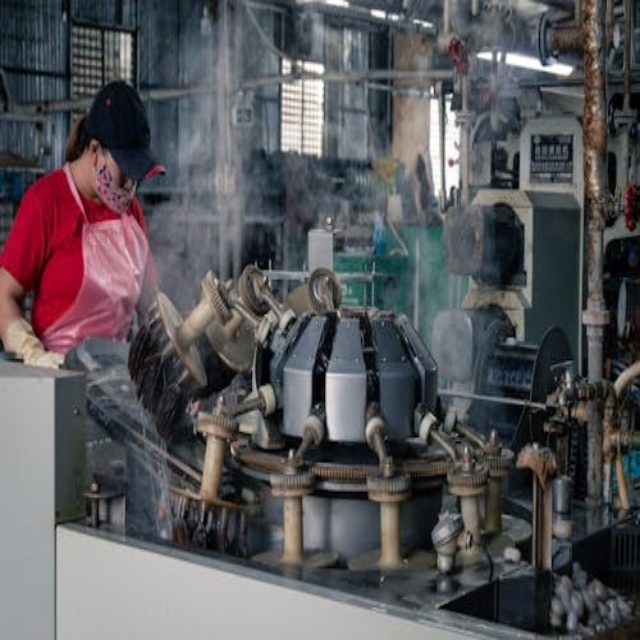Guantes: (3, 317, 68, 370)
Mascara: (92, 147, 138, 214)
